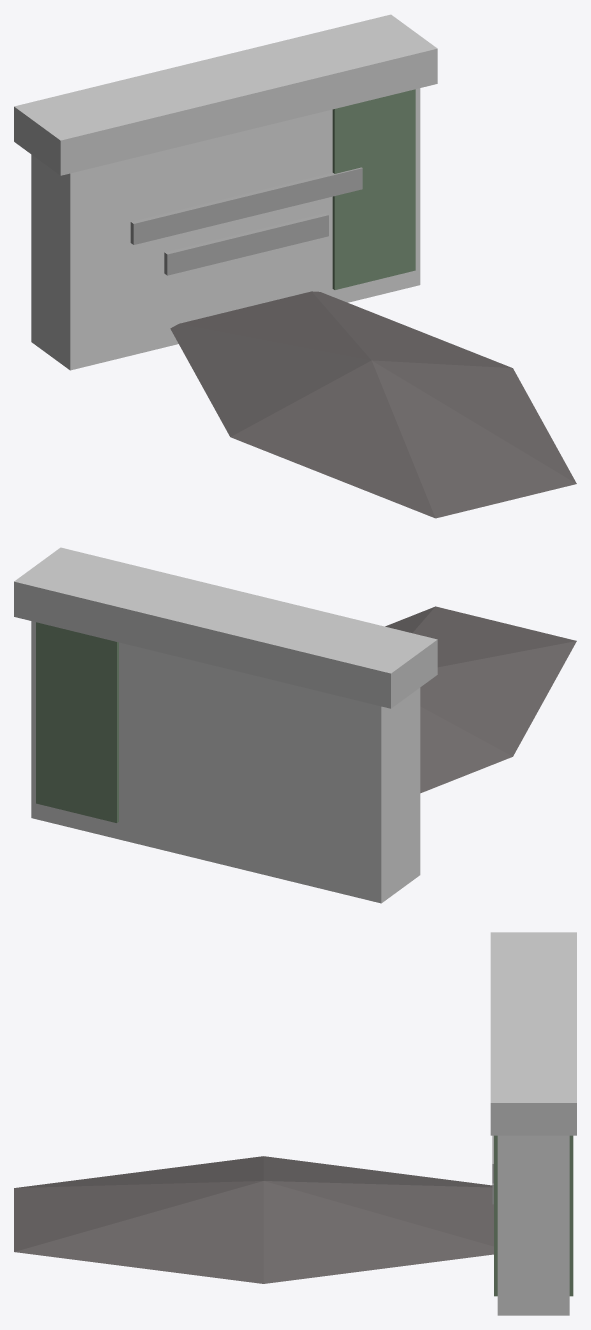
The model's file is prop_grave2.glb.
The picture shows the model from 3 angles, top to bottom: view 1: azimuth 30°, elevation 25°; view 2: azimuth 150°, elevation 25°; view 3: azimuth 270°, elevation 25°; orthographic projection. The views are drawn at different scales.
Parts seen in each view (by area): view 1: tint, body; view 2: tint, body; view 3: body, tint.
Boxes of the visible parts, left/top/right/bottom form: tint: left=14, top=14, right=437, bottom=370; body: left=170, top=89, right=576, bottom=518; tint: left=14, top=547, right=437, bottom=903; body: left=36, top=606, right=576, bottom=822; body: left=14, top=1135, right=573, bottom=1296; tint: left=490, top=932, right=576, bottom=1315.
Bounding box in the file's own units: 1.12 × 0.74 × 1.56.
